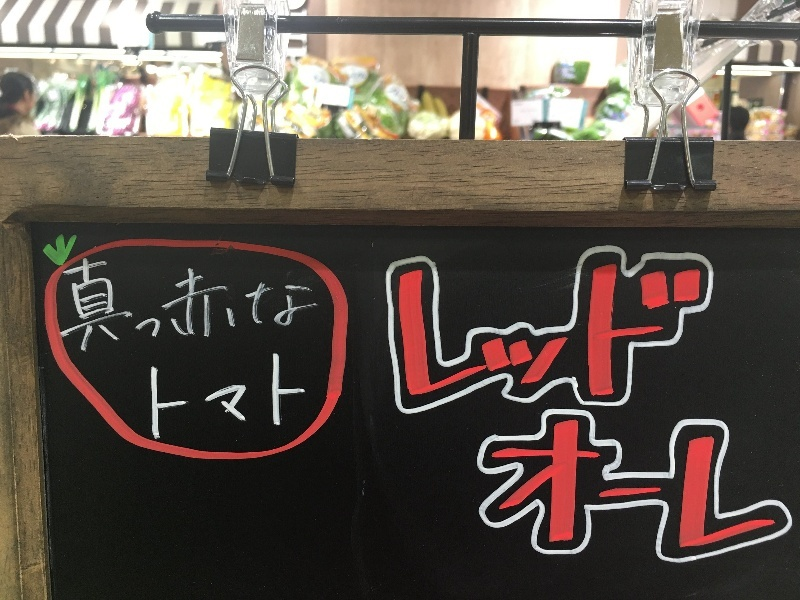text: (497, 413, 512, 556), (513, 413, 528, 556), (529, 413, 544, 556), (545, 413, 560, 556), (561, 413, 576, 556), (577, 413, 592, 556), (593, 413, 608, 556), (609, 413, 624, 556), (625, 413, 640, 556), (641, 413, 656, 556), (657, 413, 672, 556), (673, 413, 688, 556), (689, 413, 704, 556), (705, 413, 720, 556), (721, 413, 736, 556), (737, 413, 752, 556), (753, 413, 768, 556), (401, 264, 416, 400), (417, 264, 432, 400), (433, 264, 448, 400), (449, 264, 464, 400), (465, 264, 480, 400), (481, 264, 496, 400), (497, 264, 512, 400), (513, 264, 528, 400), (529, 264, 544, 400), (545, 264, 560, 400), (561, 264, 576, 400), (577, 264, 592, 400), (593, 264, 608, 400), (609, 264, 624, 400), (625, 264, 640, 400), (641, 264, 656, 400), (657, 264, 672, 400), (673, 264, 688, 400), (689, 264, 702, 400), (65, 258, 80, 355), (81, 258, 96, 355), (97, 258, 112, 355), (113, 258, 128, 355), (129, 258, 144, 355), (145, 258, 160, 355), (161, 258, 176, 355), (177, 258, 192, 355), (193, 258, 208, 355), (209, 258, 224, 355), (225, 258, 240, 355), (241, 258, 256, 355), (257, 258, 272, 355), (273, 258, 288, 355), (289, 258, 304, 355), (161, 351, 176, 442), (177, 351, 192, 442), (193, 351, 208, 442), (209, 351, 224, 442), (225, 351, 240, 442), (241, 351, 256, 442), (257, 351, 272, 442), (273, 351, 288, 442), (289, 351, 304, 442), (305, 258, 317, 355), (769, 413, 777, 556), (150, 351, 160, 442), (396, 264, 400, 400), (61, 258, 64, 355), (305, 351, 307, 442)
